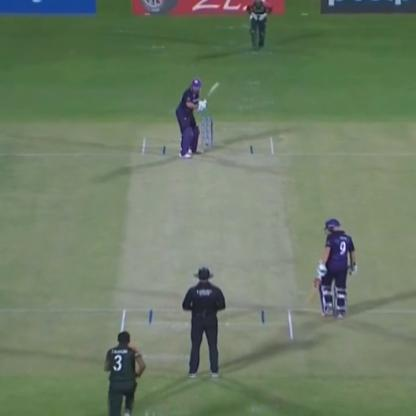bat: (193, 78, 226, 109), (302, 275, 327, 315)
pitch: (107, 131, 300, 351)
